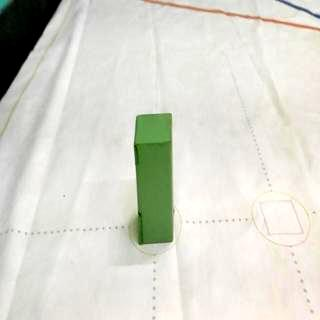greenbox: (134, 110, 177, 246)
